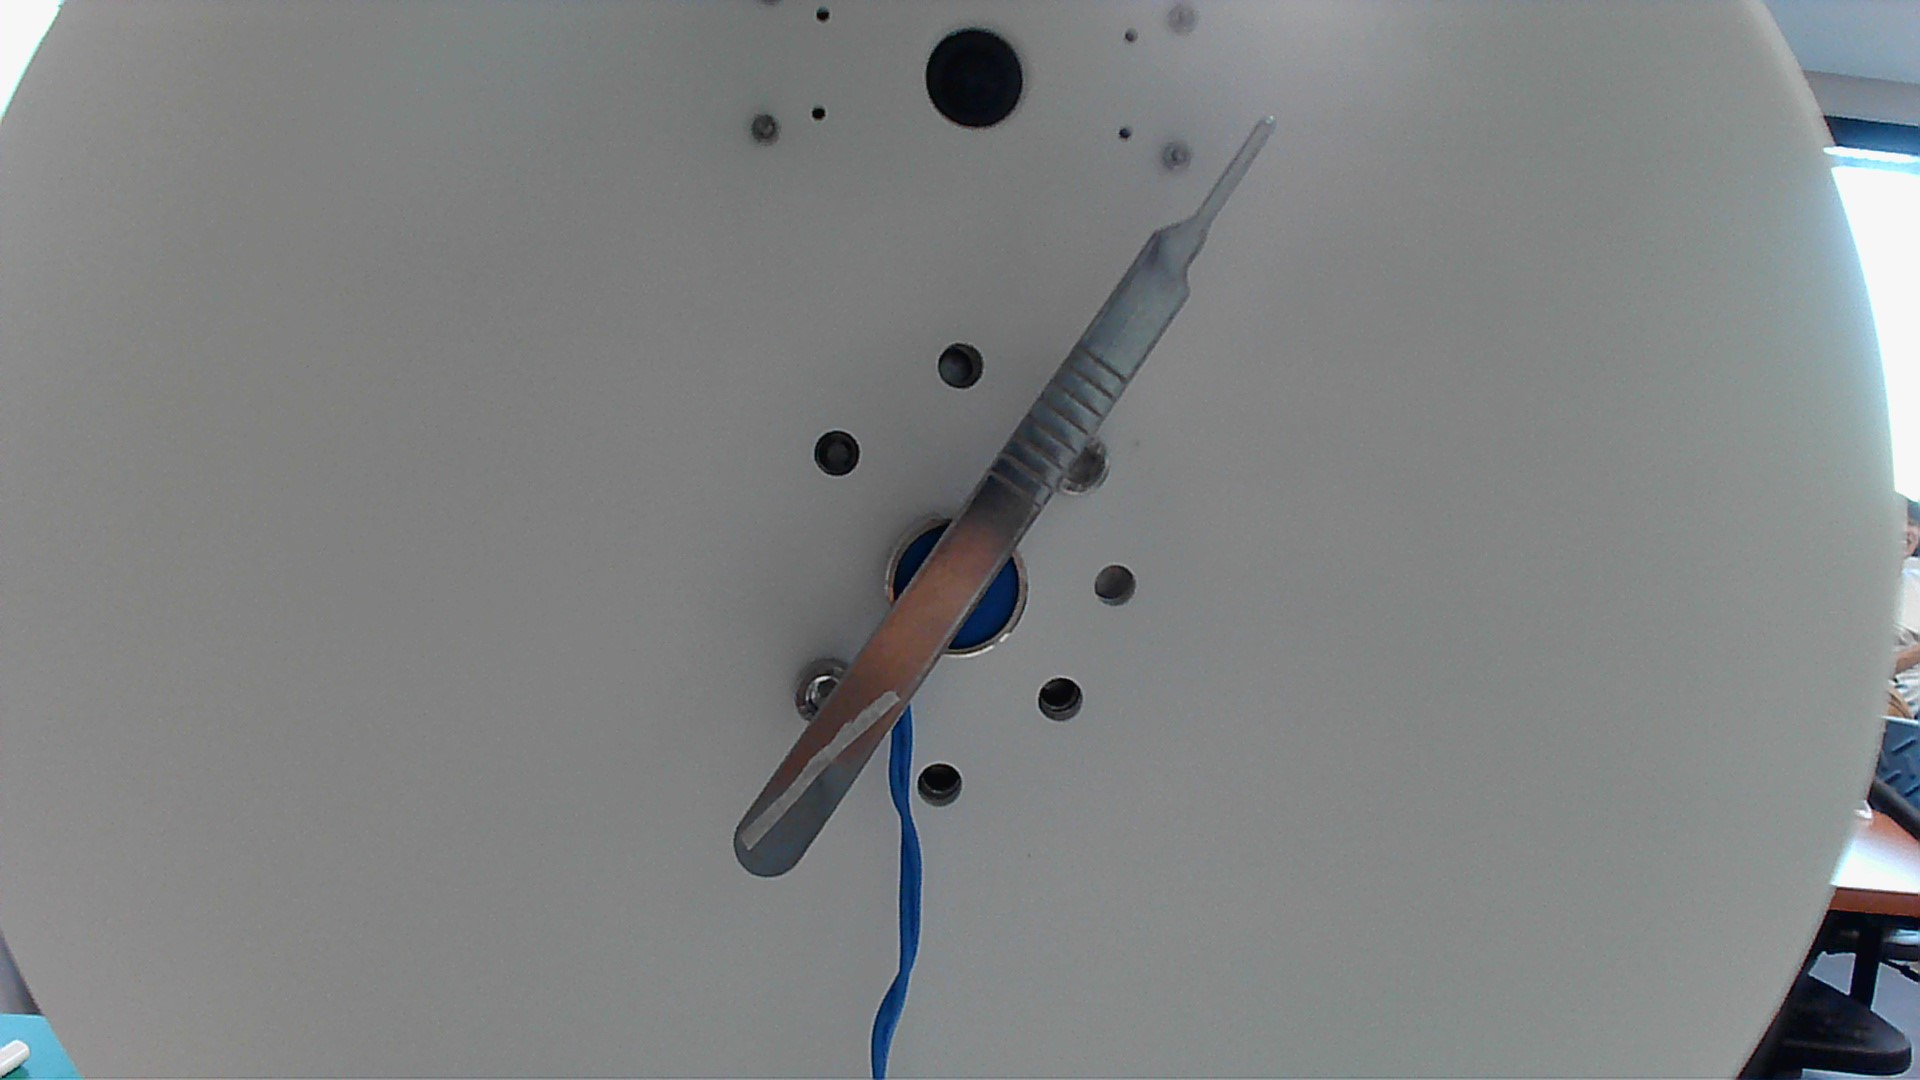Scratches: (738, 678, 907, 856)
